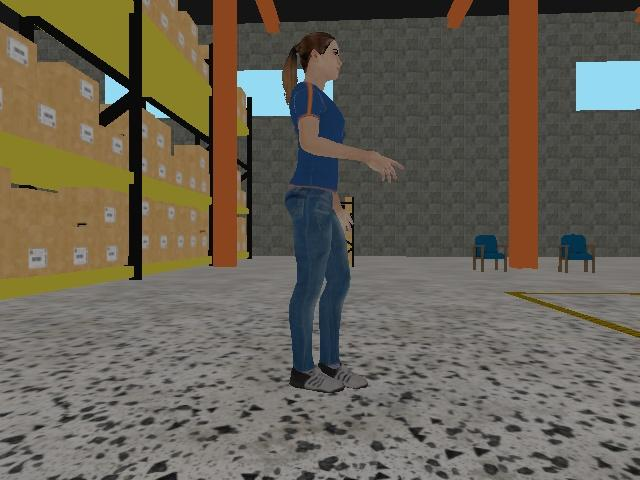chair: (558, 234, 598, 273), (472, 234, 509, 272)
person: (282, 32, 405, 394)
